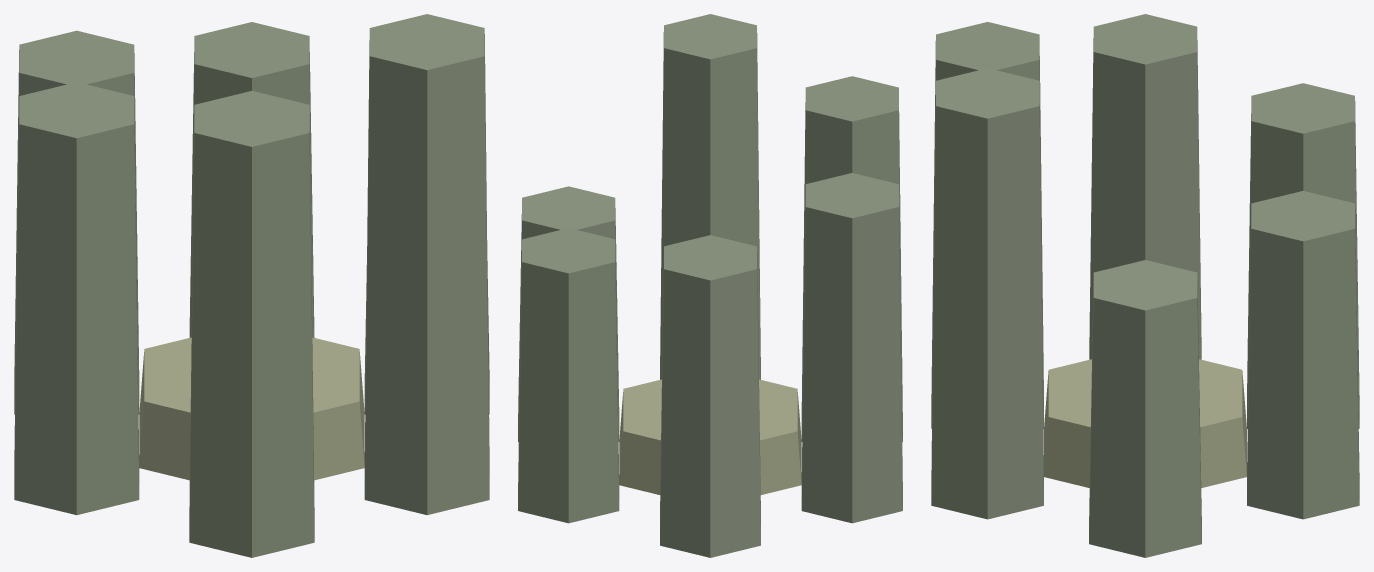
File: map-exclusive-v3__ruins_02.glb
3 renders of one model, left to right at view 1: azimuth 30°, elevation 25°; view 2: azimuth 150°, elevation 25°; view 3: azimuth 270°, elevation 25°, orthographic. The views are drawn at different scales.
Parts seen in each view (by area): view 1: ruins_02; view 2: ruins_02; view 3: ruins_02.
Boxes of the visible parts, left/top/right/bottom form: ruins_02: left=14, top=14, right=489, bottom=557; ruins_02: left=518, top=14, right=902, bottom=557; ruins_02: left=931, top=14, right=1359, bottom=557.
Bounding box in the file's own units: 1.9 × 1.69 × 1.65.
